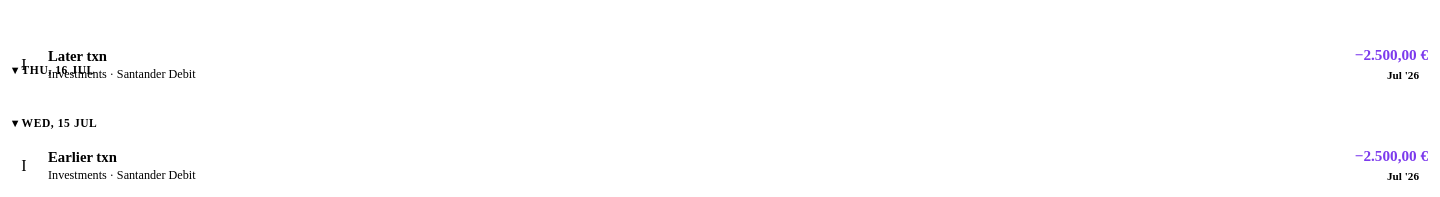
Test case: TransactionList collapsible date groups › collapsing one day leaves a different day expanded
Click the button "▾ Thu, 16 Jul" at (58, 70), box [8, 57, 1432, 83]
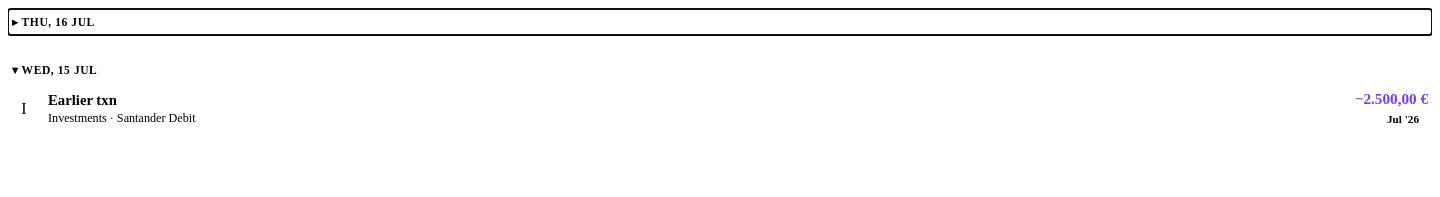
expect the text "Earlier txn" is shown: met, box [48, 92, 117, 108]
expect the button "Later txn" is gone: met
